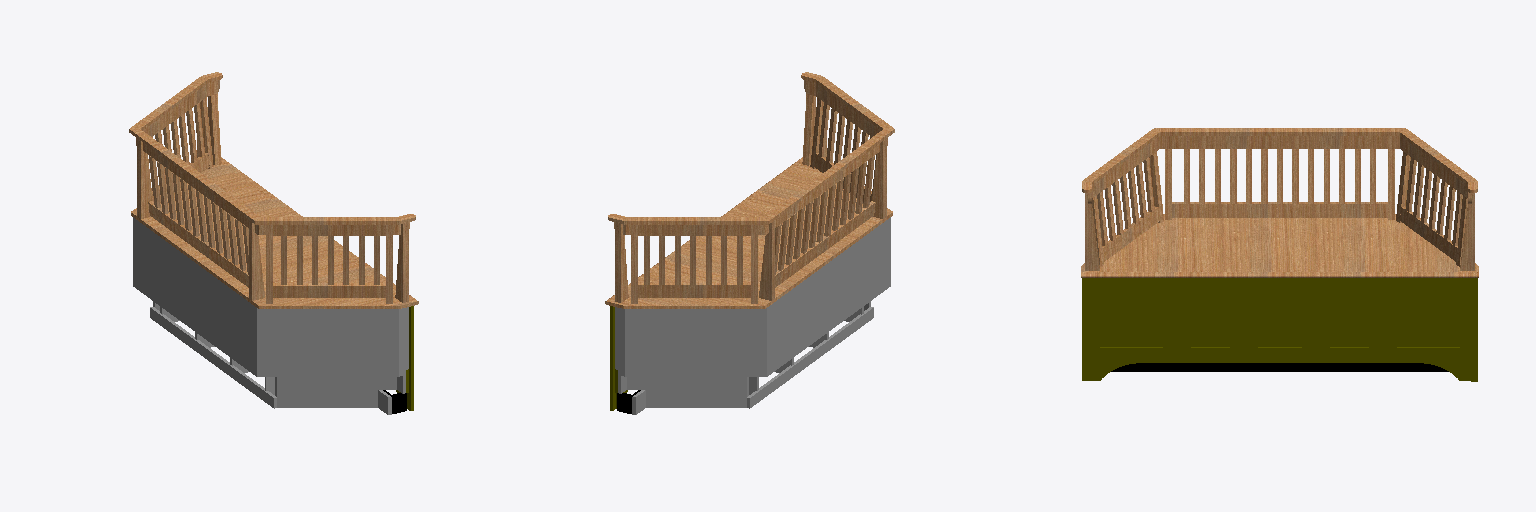
The picture shows the model from 3 angles: view 1: azimuth 30°, elevation 25°; view 2: azimuth 150°, elevation 25°; view 3: azimuth 270°, elevation 25°; orthographic projection.
Visible parts, largest first — view 1: mesh24.001_mesh24-geometry, mesh88.001_mesh88-geometry, mesh28.001_mesh28-geometry, mesh9.001_mesh9-geometry, mesh1.001_mesh1-geometry, mesh82.001_mesh82-geometry, mesh101.001_mesh101-geometry, mesh78.001_mesh78-geometry, mesh82.002_mesh82-geometry, mesh103.001_mesh103-geometry, mesh91.001_mesh91-geometry, mesh72.002_mesh72-geometry (+11 smaller); view 2: mesh26.001_mesh26-geometry, mesh88.001_mesh88-geometry, mesh28.001_mesh28-geometry, mesh11.001_mesh11-geometry, mesh1.001_mesh1-geometry, mesh76.001_mesh76-geometry, mesh101.001_mesh101-geometry, mesh78.001_mesh78-geometry, mesh76.002_mesh76-geometry, mesh107.001_mesh107-geometry, mesh74.002_mesh74-geometry, mesh91.001_mesh91-geometry (+11 smaller); view 3: mesh88.001_mesh88-geometry, mesh60.002_mesh60-geometry, mesh60.001_mesh60-geometry, mesh78.001_mesh78-geometry, mesh91.001_mesh91-geometry, mesh70.001_mesh70-geometry, mesh66.001_mesh66-geometry, mesh64.001_mesh64-geometry, mesh32.001_mesh32-geometry, mesh62.002_mesh62-geometry, mesh62.001_mesh62-geometry, mesh101.001_mesh101-geometry (+24 smaller).
Part boxes in pixels (bbox=[...]): mesh24.001_mesh24-geometry: bbox=[257, 309, 398, 371]; mesh88.001_mesh88-geometry: bbox=[131, 164, 411, 308]; mesh28.001_mesh28-geometry: bbox=[133, 219, 256, 371]; mesh9.001_mesh9-geometry: bbox=[275, 377, 396, 407]; mesh1.001_mesh1-geometry: bbox=[150, 307, 276, 408]; mesh82.001_mesh82-geometry: bbox=[273, 283, 385, 297]; mesh101.001_mesh101-geometry: bbox=[129, 129, 259, 223]; mesh78.001_mesh78-geometry: bbox=[148, 201, 248, 287]; mesh82.002_mesh82-geometry: bbox=[273, 225, 385, 235]; mesh103.001_mesh103-geometry: bbox=[255, 217, 399, 224]; mesh91.001_mesh91-geometry: bbox=[136, 138, 258, 234]; mesh72.002_mesh72-geometry: bbox=[249, 220, 264, 300]; mesh26.001_mesh26-geometry: bbox=[625, 309, 766, 371]; mesh88.001_mesh88-geometry: bbox=[612, 164, 892, 308]; mesh28.001_mesh28-geometry: bbox=[767, 219, 890, 371]; mesh11.001_mesh11-geometry: bbox=[627, 377, 748, 407]; mesh1.001_mesh1-geometry: bbox=[747, 307, 873, 408]; mesh76.001_mesh76-geometry: bbox=[638, 283, 750, 297]; mesh101.001_mesh101-geometry: bbox=[764, 129, 894, 223]; mesh78.001_mesh78-geometry: bbox=[775, 201, 875, 287]; mesh76.002_mesh76-geometry: bbox=[638, 225, 750, 235]; mesh107.001_mesh107-geometry: bbox=[624, 217, 768, 224]; mesh74.002_mesh74-geometry: bbox=[759, 220, 774, 300]; mesh91.001_mesh91-geometry: bbox=[765, 138, 887, 234]; mesh88.001_mesh88-geometry: bbox=[1081, 214, 1478, 271]; mesh60.002_mesh60-geometry: bbox=[1397, 292, 1459, 346]; mesh60.001_mesh60-geometry: bbox=[1100, 292, 1162, 346]; mesh78.001_mesh78-geometry: bbox=[1172, 202, 1387, 217]; mesh91.001_mesh91-geometry: bbox=[1160, 136, 1399, 148]; mesh70.001_mesh70-geometry: bbox=[1111, 363, 1448, 371]; mesh66.001_mesh66-geometry: bbox=[1089, 358, 1470, 380]; mesh64.001_mesh64-geometry: bbox=[1258, 292, 1301, 346]; mesh32.001_mesh32-geometry: bbox=[1081, 272, 1478, 277]; mesh62.002_mesh62-geometry: bbox=[1330, 292, 1368, 346]; mesh62.001_mesh62-geometry: bbox=[1191, 292, 1229, 346]; mesh101.001_mesh101-geometry: bbox=[1154, 128, 1405, 135].
Bounding box in the file's own units: 0.3113 × 0.4491 × 0.8375.
5 materials, 1 textured.